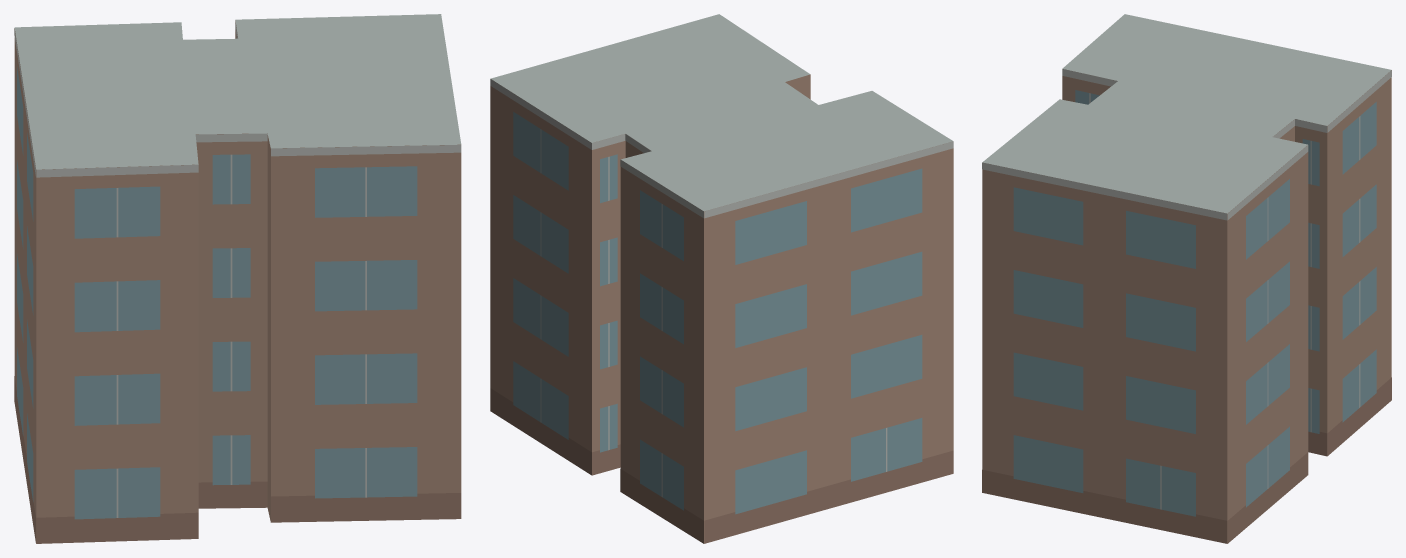
File: survey-upis-32489789.glb
The picture shows the model from 3 angles, left to right: view 1: azimuth 30°, elevation 25°; view 2: azimuth 150°, elevation 25°; view 3: azimuth 270°, elevation 25°; orthographic projection. The views are drawn at different scales.
Parts seen in each view (by area): view 1: survey-upis-32489789.tmp; view 2: survey-upis-32489789.tmp; view 3: survey-upis-32489789.tmp.
Boxes of the visible parts, box(x1,y1,x2,y2) form: survey-upis-32489789.tmp: box(14, 14, 461, 543); survey-upis-32489789.tmp: box(490, 14, 953, 543); survey-upis-32489789.tmp: box(982, 14, 1391, 543).
Bounding box in the file's own units: 14.84 × 11.45 × 12.88.
